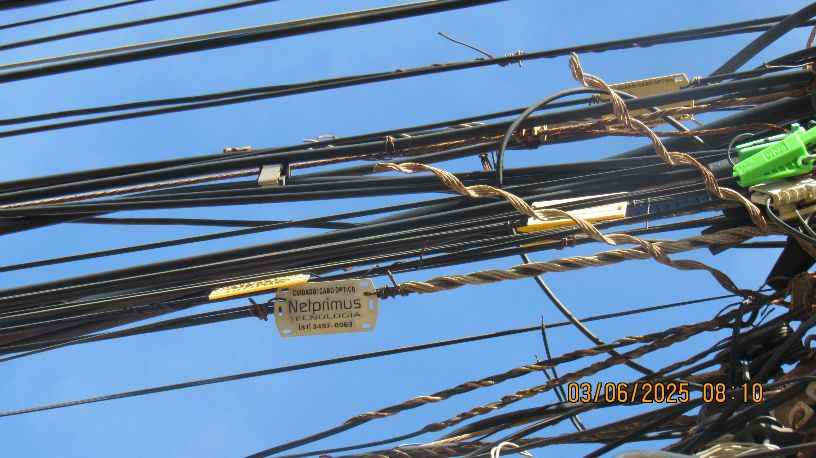fibra_optica: (207, 241, 384, 340), (586, 70, 699, 132), (518, 193, 637, 242)
